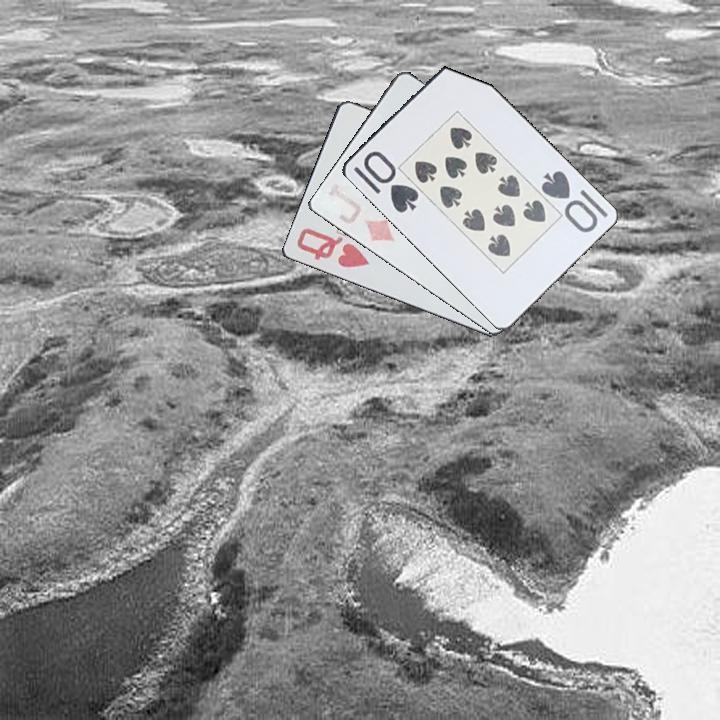Jd: (320, 180, 397, 246)
Qh: (293, 223, 373, 271)
Ts: (537, 167, 611, 236), (349, 147, 421, 216)
